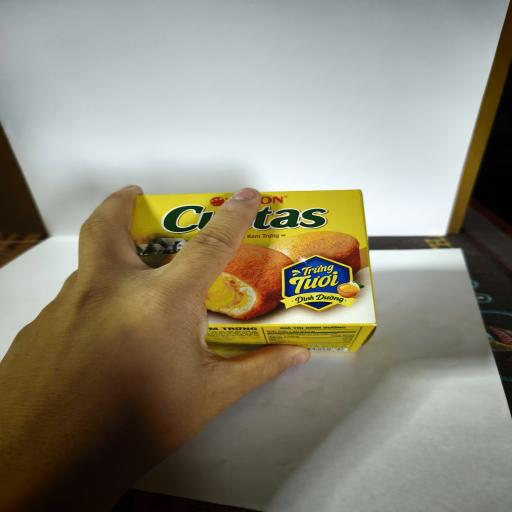custas: (130, 190, 377, 356)
